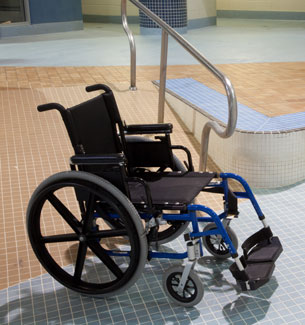wheelchair: (23, 91, 274, 293)
